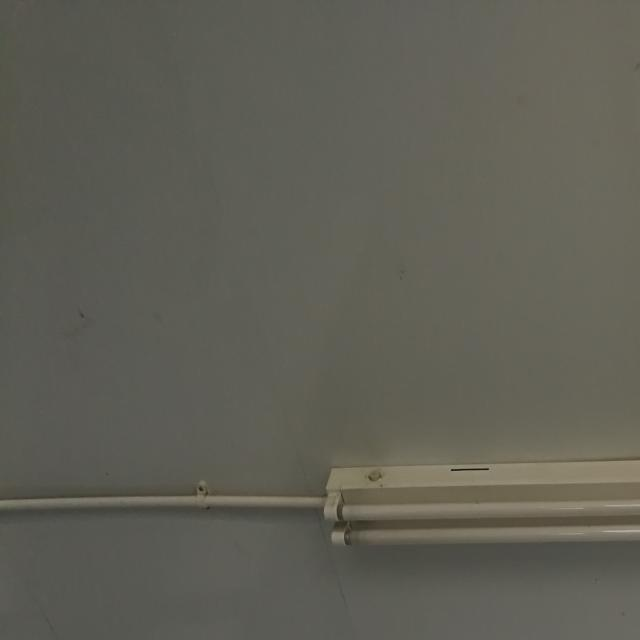fluorescent tube: (313, 428, 640, 585)
